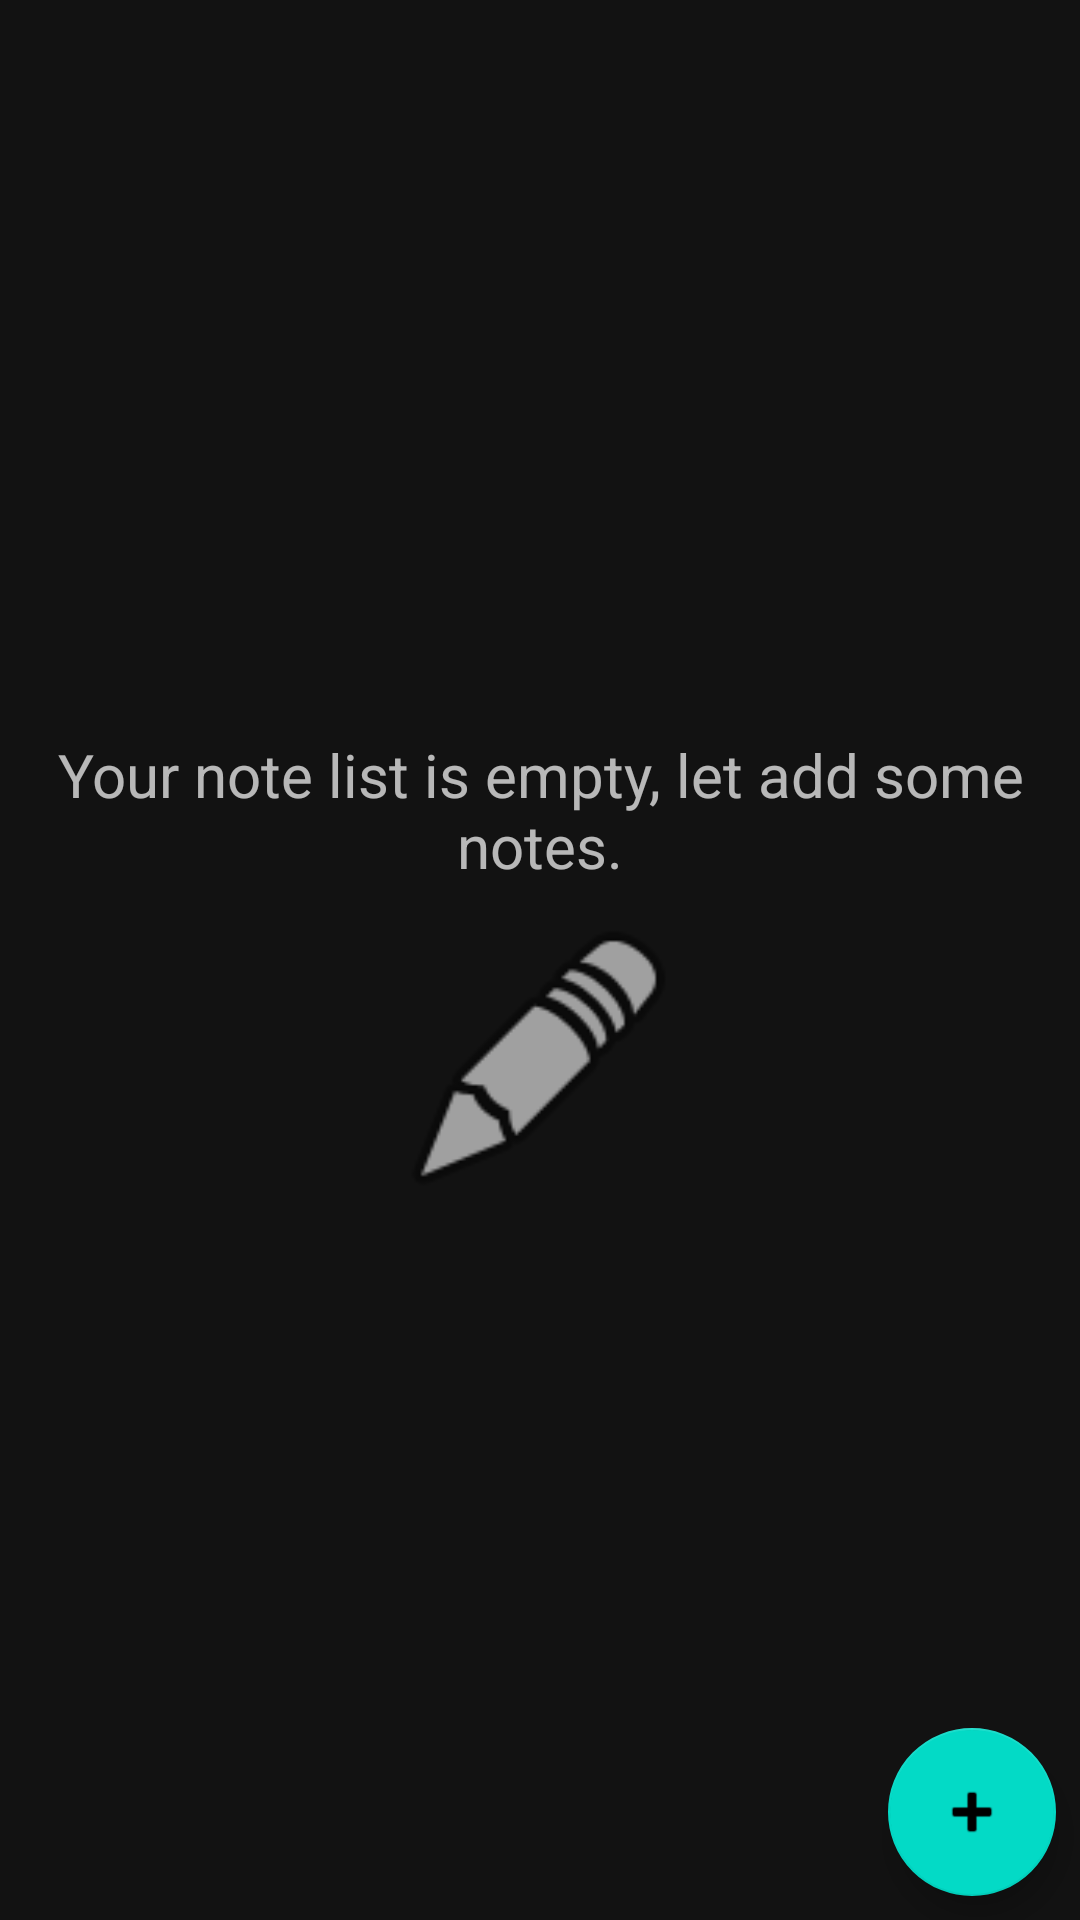

Icon click points for this 1080w x 1920h phone screenshot, format (x=x, y=y):
add: (x=972, y=1812)
edit: (x=538, y=1058)
